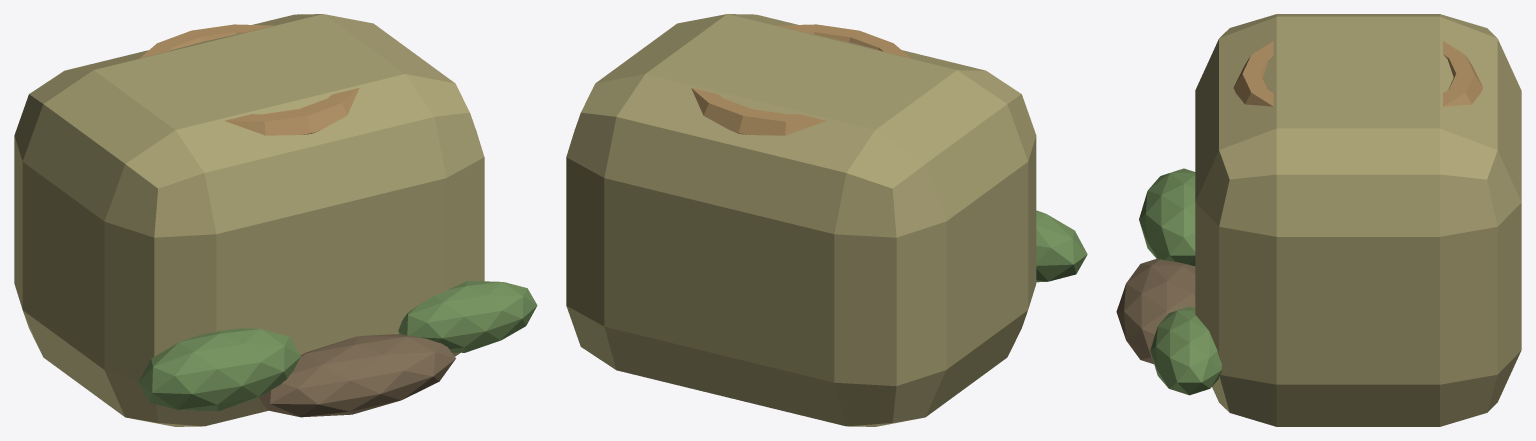
File: economy_cargo_rotten_grain_v01.glb
The picture shows the model from 3 angles, left to right: view 1: azimuth 30°, elevation 25°; view 2: azimuth 150°, elevation 25°; view 3: azimuth 270°, elevation 25°; orthographic projection.
Parts seen in each view (by area): view 1: GEO_RottenGrainSack, GEO_RottenGrainClump_1, GEO_RottenGrainClump_0, GEO_RottenGrainClump_2, GEO_RottenGrainTie; view 2: GEO_RottenGrainSack, GEO_RottenGrainTie, GEO_RottenGrainClump_0; view 3: GEO_RottenGrainSack, GEO_RottenGrainClump_1, GEO_RottenGrainClump_2, GEO_RottenGrainClump_0, GEO_RottenGrainTie.
Boxes of the visible parts, x1,y1,x2,y2 form: GEO_RottenGrainSack: [14, 14, 484, 426]; GEO_RottenGrainClump_1: [258, 334, 455, 417]; GEO_RottenGrainClump_0: [138, 328, 300, 411]; GEO_RottenGrainClump_2: [398, 280, 537, 352]; GEO_RottenGrainTie: [139, 24, 359, 135]; GEO_RottenGrainSack: [566, 14, 1036, 426]; GEO_RottenGrainTie: [691, 24, 910, 135]; GEO_RottenGrainClump_0: [1036, 210, 1087, 282]; GEO_RottenGrainSack: [1195, 14, 1521, 426]; GEO_RottenGrainClump_1: [1116, 258, 1195, 364]; GEO_RottenGrainClump_2: [1150, 306, 1222, 395]; GEO_RottenGrainClump_0: [1139, 168, 1195, 266]; GEO_RottenGrainTie: [1233, 41, 1482, 106].
Size of the model in its own units: 0.7953 by 0.58 by 0.72.
